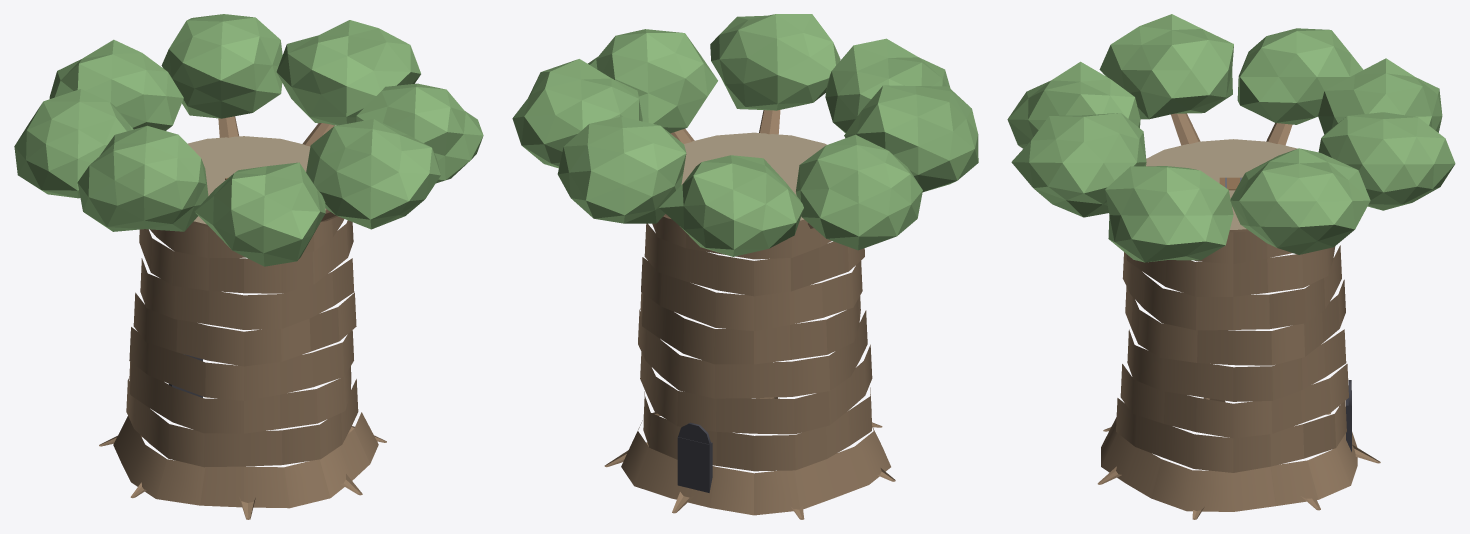
File: hollow_tree.glb
3 renders of one model, left to right at view 1: azimuth 30°, elevation 25°; view 2: azimuth 150°, elevation 25°; view 3: azimuth 270°, elevation 25°, orthographic.
Parts seen in each view (by area): view 1: hollow_tree; view 2: hollow_tree; view 3: hollow_tree.
Part boxes in pixels (x1,y1,x2,y2): hollow_tree: [14, 14, 483, 519]; hollow_tree: [512, 14, 978, 519]; hollow_tree: [1007, 14, 1455, 519].
Bounding box in the file's own units: 17.8 × 16.26 × 17.89.
